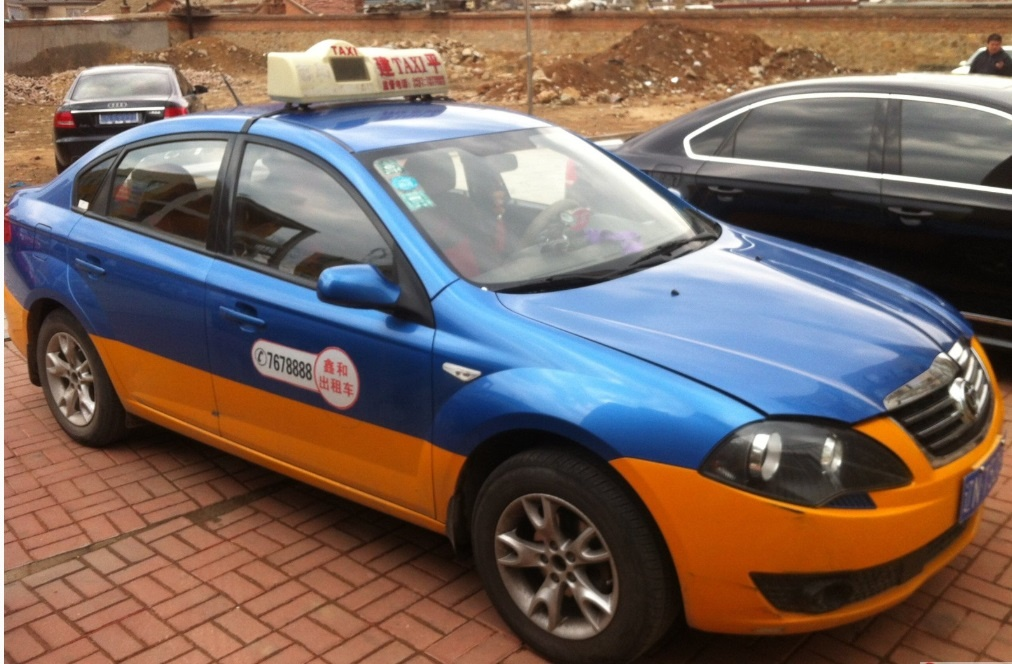taxi: (4, 31, 1003, 652)
